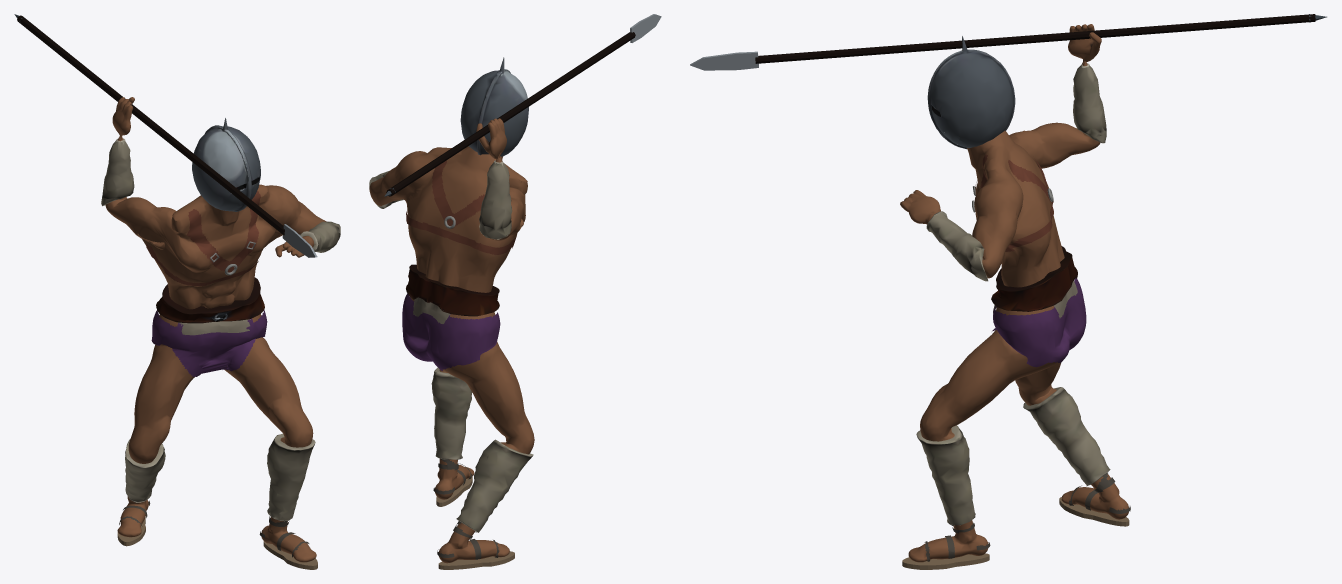
Rendered from glad_venatore.glb.
3 views of the same model, side by side, from view 1: azimuth 30°, elevation 25°; view 2: azimuth 150°, elevation 25°; view 3: azimuth 270°, elevation 25° (orthographic). The views are drawn at different scales.
Parts seen in each view (by area): view 1: venatore; view 2: venatore; view 3: venatore.
Boxes of the visible parts, <box> form: venatore: <box>14,14,340,569</box>; venatore: <box>369,14,661,569</box>; venatore: <box>690,14,1326,569</box>.
Bounding box in the file's own units: 0.4921 × 1.12 × 1.3.
